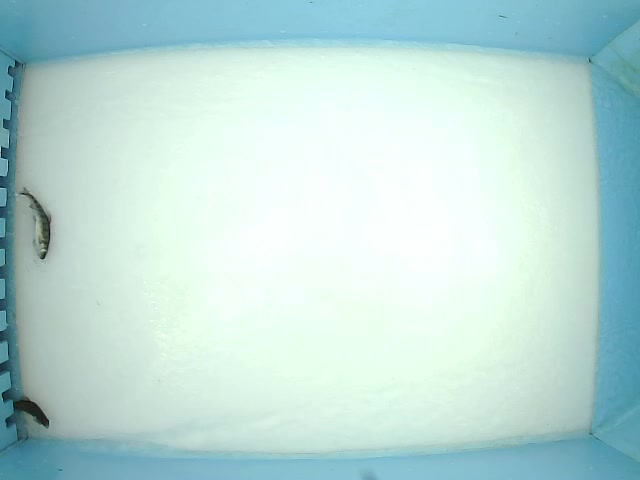fish: (16, 186, 53, 261)
